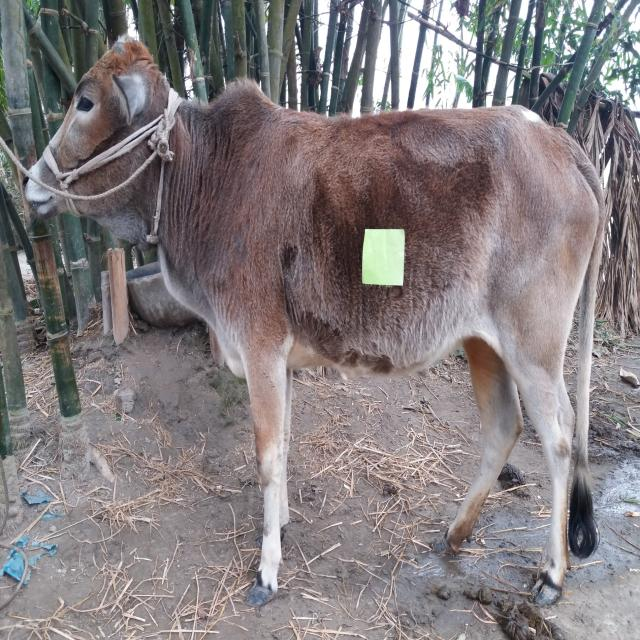badan_sapi: (227, 108, 564, 375)
